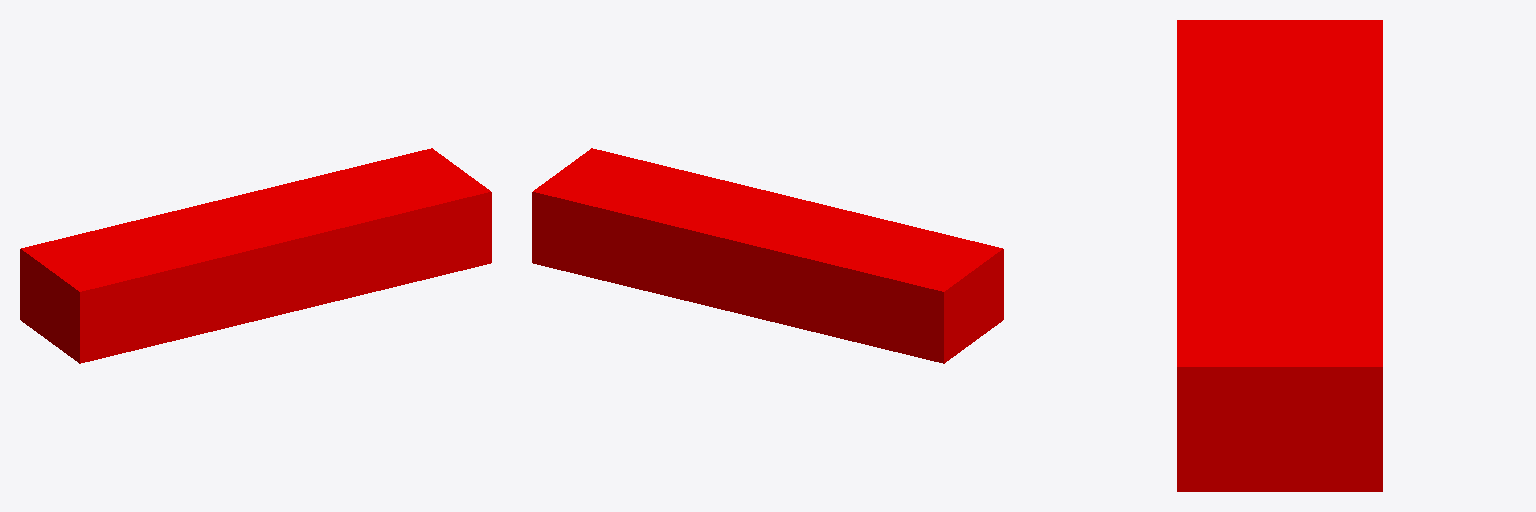
The robot description file, URDF, robot "wall8":
<?xml version="1.0"?>
<robot name="wall8">
	<link name="base">
	<inertial>
        	 <origin xyz="0 0 0" rpy="0 0 0"/>
        	 <mass value="3"/>
        	 <inertia ixx="0.000683333"  ixy="0"  ixz="0" iyy="0.000683333" iyz="0" izz="0.000683333" />
       </inertial>
		<visual>
			<origin xyz="0 0 0" rpy="0 0 0" />
			<geometry>
				<box size="0.12 0.03 0.02" />
			</geometry>
			<material>
				<color rgba="1 0 0 1" />
			</material>
		</visual>
		<collision>
			<origin xyz="0 0 0" rpy="0 0 0" />
			<material>
				<color rgba="1 0 0 1" />
			</material>
			<geometry>
				<box size="0.12 0.03 0.02" />
			</geometry>
			
		</collision>

	</link>
</robot>

--- Render facts (derived) ---
The picture shows the robot from 3 angles, left to right: view 1: azimuth 30°, elevation 25°; view 2: azimuth 150°, elevation 25°; view 3: azimuth 270°, elevation 25°; orthographic projection.
Model wall8 with 1 links and 0 joints (none), rooted at base, posed all joints at 0.
Visible links, largest first — view 1: base; view 2: base; view 3: base.
Link boxes in pixels (left/top/right/bottom): base: left=20, top=148, right=491, bottom=363; base: left=532, top=148, right=1003, bottom=363; base: left=1177, top=20, right=1382, bottom=491.
Size in the robot's own frame: 0.12 by 0.03 by 0.02 metres.
Geometry: primitives only (box / cylinder / sphere), no mesh files.
